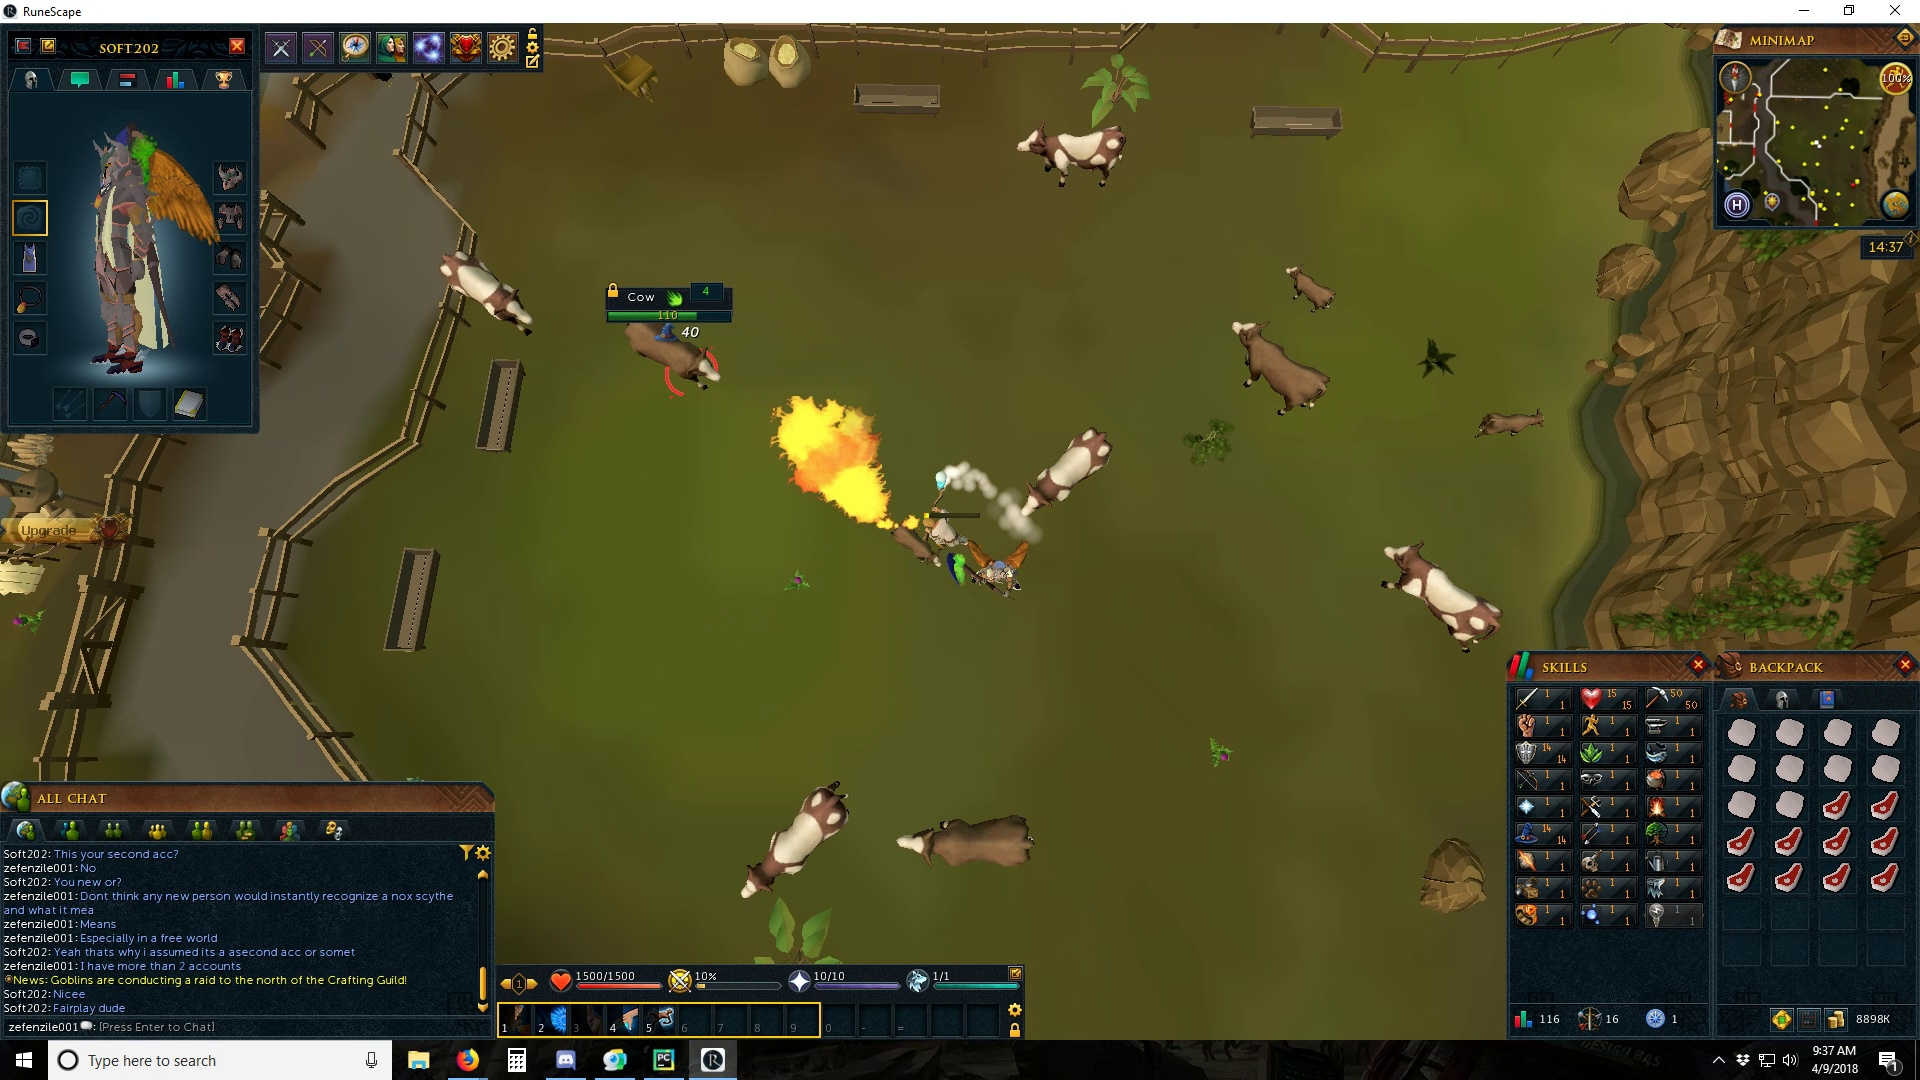calf: (882, 524, 947, 571), (1282, 262, 1338, 313), (1470, 407, 1549, 440)
cow: (1381, 539, 1505, 655), (738, 781, 855, 899), (1232, 318, 1333, 417), (1018, 425, 1116, 518), (436, 251, 539, 338), (895, 815, 1036, 872), (1011, 123, 1127, 191), (622, 323, 727, 390)
